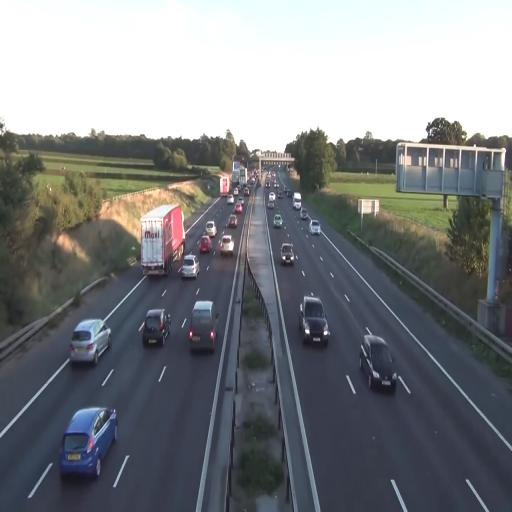vehicle: (59, 406, 117, 479), (140, 203, 185, 279), (358, 330, 398, 392), (69, 318, 112, 365), (188, 299, 220, 355), (300, 294, 330, 346), (139, 307, 170, 348), (180, 254, 199, 281), (198, 232, 214, 256), (280, 242, 295, 266), (219, 234, 235, 255), (198, 236, 212, 255), (292, 192, 302, 210), (310, 220, 320, 234), (299, 210, 310, 221)
